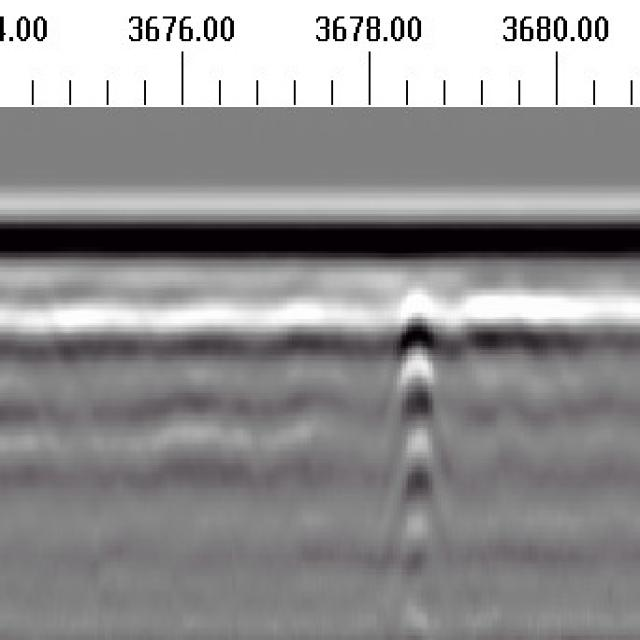crack: (388, 289, 441, 625)
